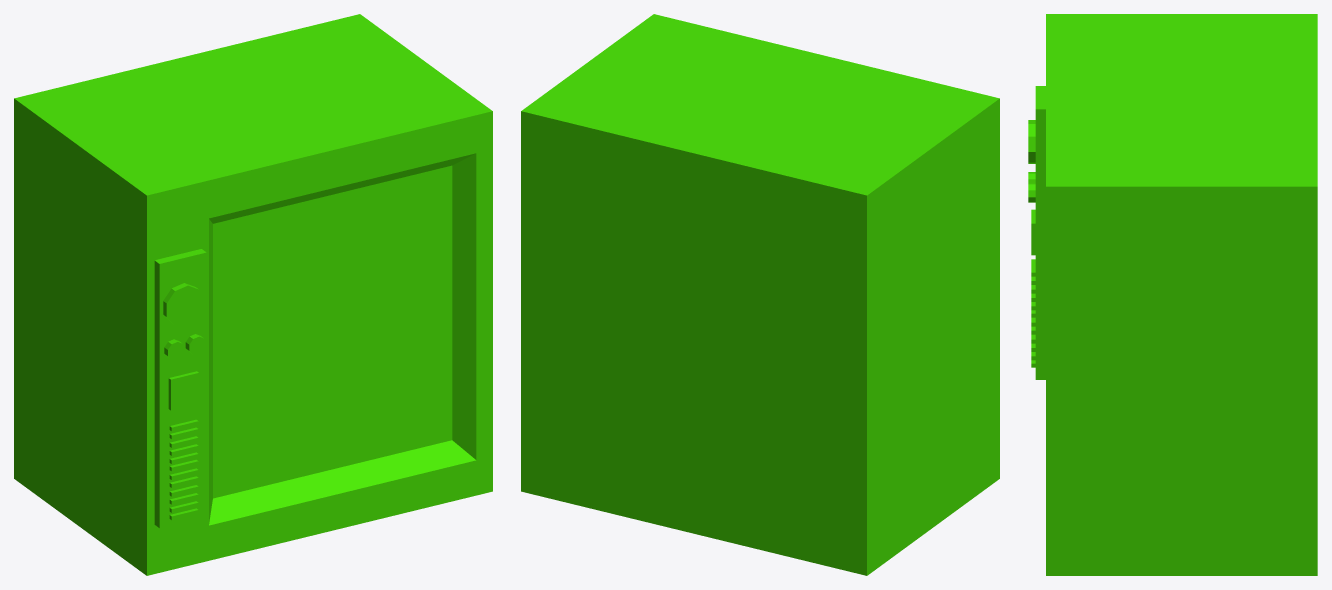
The model's file is Muse_tv3_exp_001.fbx.
3 views of the same model, side by side, from view 1: azimuth 30°, elevation 25°; view 2: azimuth 150°, elevation 25°; view 3: azimuth 270°, elevation 25° (orthographic). The views are drawn at different scales.
Visible parts, largest first — view 1: pCube4, pCube5, pCylinder1, pCube12; view 2: pCube4; view 3: pCube4, pCube5.
Part boxes in pixels (bbox=[...]): pCube4: bbox=[14, 14, 492, 575]; pCube5: bbox=[154, 249, 206, 528]; pCylinder1: bbox=[163, 283, 203, 325]; pCube12: bbox=[168, 371, 198, 410]; pCube4: bbox=[521, 14, 999, 575]; pCube4: bbox=[1046, 14, 1317, 575]; pCube5: bbox=[1035, 86, 1045, 379].
Size of the model in its own units: 1.7 by 1.78 by 1.2.
